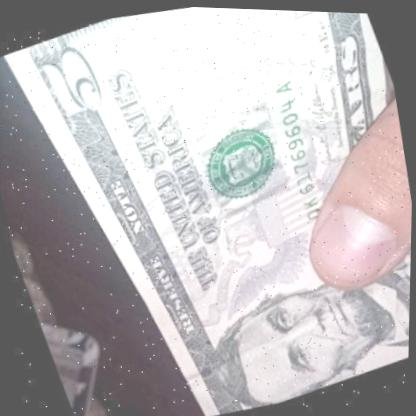five-front: (19, 1, 416, 416)
